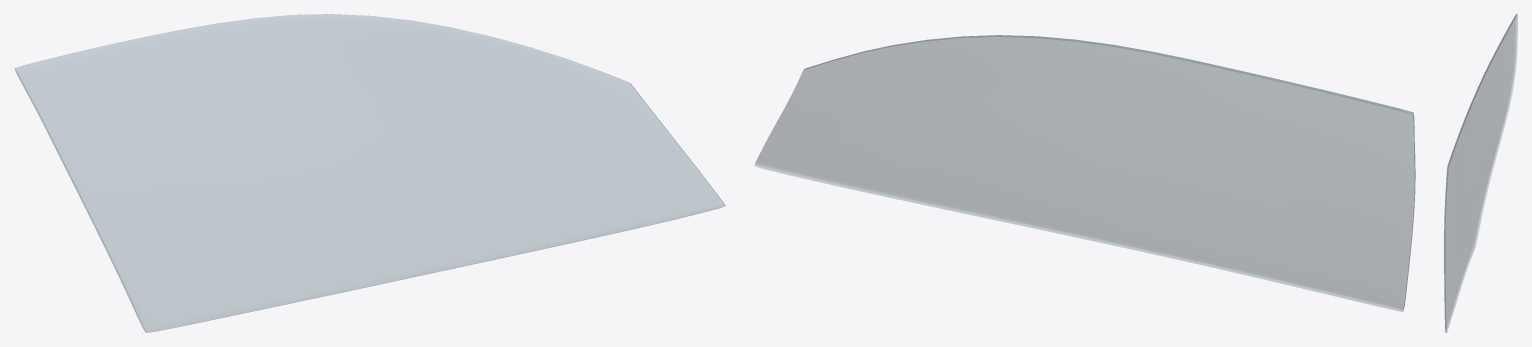
3 renders of one model, left to right at view 1: azimuth 30°, elevation 25°; view 2: azimuth 150°, elevation 25°; view 3: azimuth 270°, elevation 25°, orthographic. The views are drawn at different scales.
Visible parts, largest first — view 1: SM_DodgeCharger_Door_FR_Glass_Ext1; view 2: SM_DodgeCharger_Door_FR_Glass_Ext1; view 3: SM_DodgeCharger_Door_FR_Glass_Ext1.
Boxes of the visible parts, x1=… form: SM_DodgeCharger_Door_FR_Glass_Ext1: x1=15, y1=14, x2=725, y2=332; SM_DodgeCharger_Door_FR_Glass_Ext1: x1=754, y1=35, x2=1415, y2=311; SM_DodgeCharger_Door_FR_Glass_Ext1: x1=1444, y1=14, x2=1517, y2=332.
Bounding box in the file's own units: 0.9381 × 0.3491 × 0.1648.
